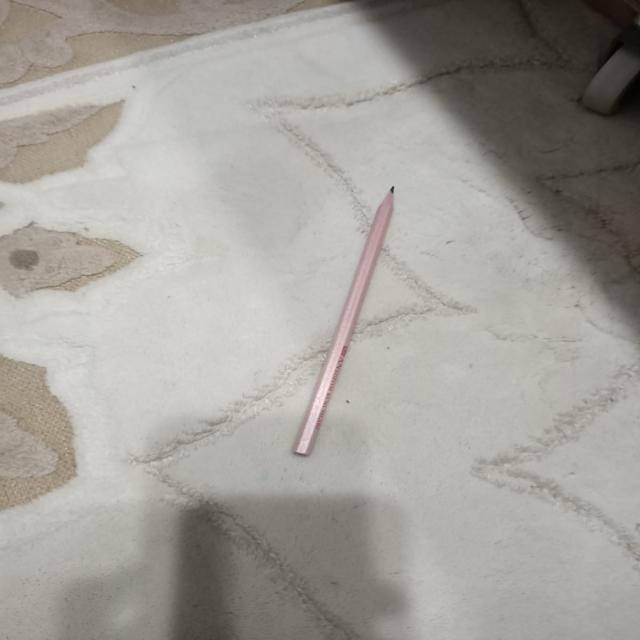pencil: (292, 186, 394, 456)
